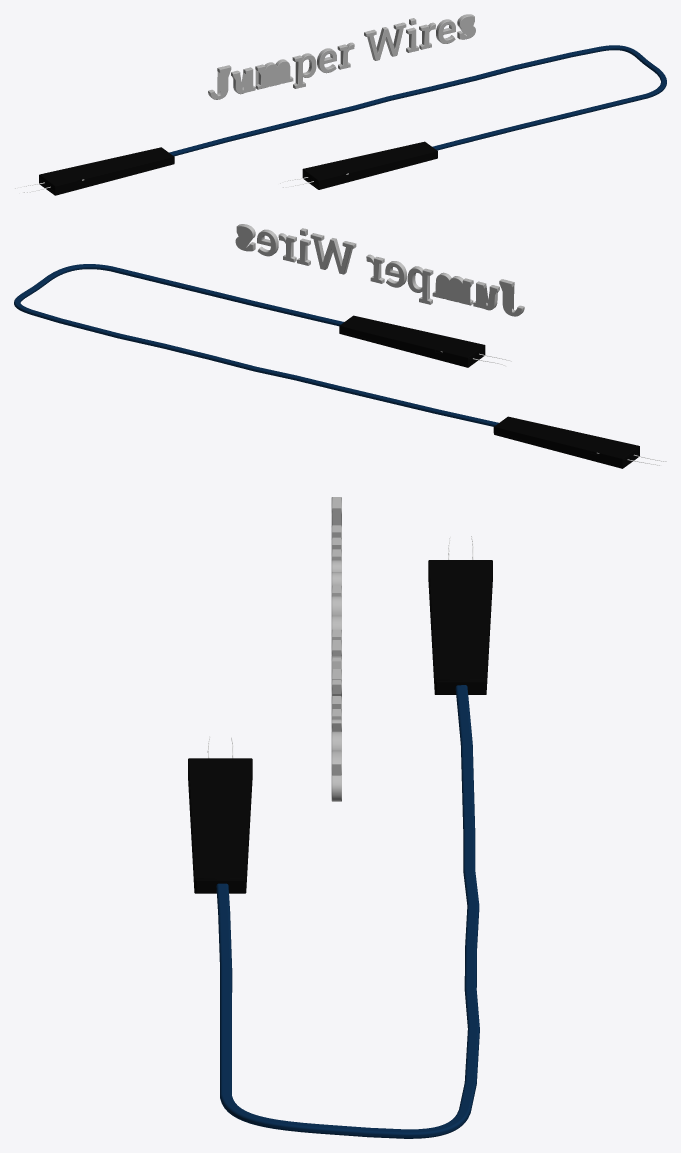
Rendered from JumperWire.fbx.
3 views of the same model, one above another, from view 1: azimuth 30°, elevation 25°; view 2: azimuth 150°, elevation 25°; view 3: azimuth 270°, elevation 25° (orthographic). The views are drawn at different scales.
Visible parts, largest first — view 1: Sweep, Cube_4, Cube, m, W, p, u, J, s, e, e_2, r (+1 smaller); view 2: Sweep, Cube_4, Cube, m, W, p, u, J, s, e_2, e; view 3: Sweep, Cube_4, Cube.
Part boxes in pixels (box(x1,y1,x2,y2)): Sweep: box(169, 45, 666, 156); Cube_4: box(302, 141, 437, 189); Cube: box(39, 147, 174, 195); m: box(255, 59, 293, 89); W: box(364, 22, 406, 60); p: box(292, 53, 316, 88); u: box(231, 67, 255, 94); J: box(208, 65, 231, 99); s: box(457, 14, 475, 39); e: box(317, 48, 336, 73); e_2: box(436, 19, 455, 43); r: box(337, 42, 354, 69); Sweep: box(14, 264, 498, 426); Cube_4: box(339, 315, 485, 367); Cube: box(493, 416, 639, 468); m: box(432, 272, 473, 305); W: box(310, 233, 356, 274); p: box(407, 266, 433, 304); u: box(473, 281, 499, 310); J: box(499, 279, 524, 316); s: box(235, 224, 255, 251); e_2: box(257, 229, 278, 256); e: box(385, 261, 406, 287); Sweep: box(216, 685, 479, 1138); Cube_4: box(188, 758, 252, 893); Cube: box(428, 560, 492, 694).
Bounding box in the file's own units: 816 × 143 × 177.
